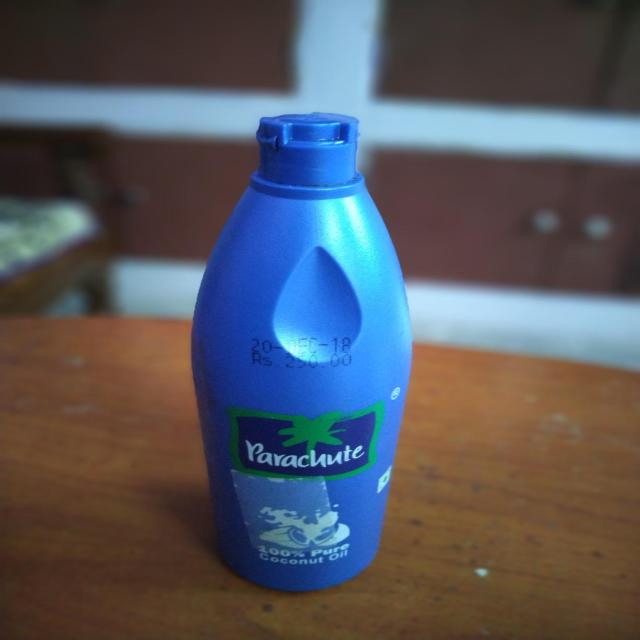parachute_oil: (178, 106, 421, 604)
